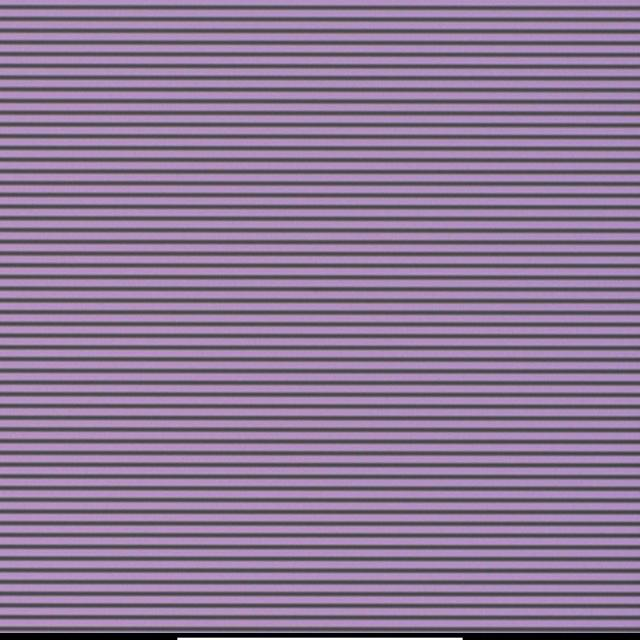03_intrusion: (310, 297, 317, 305)
